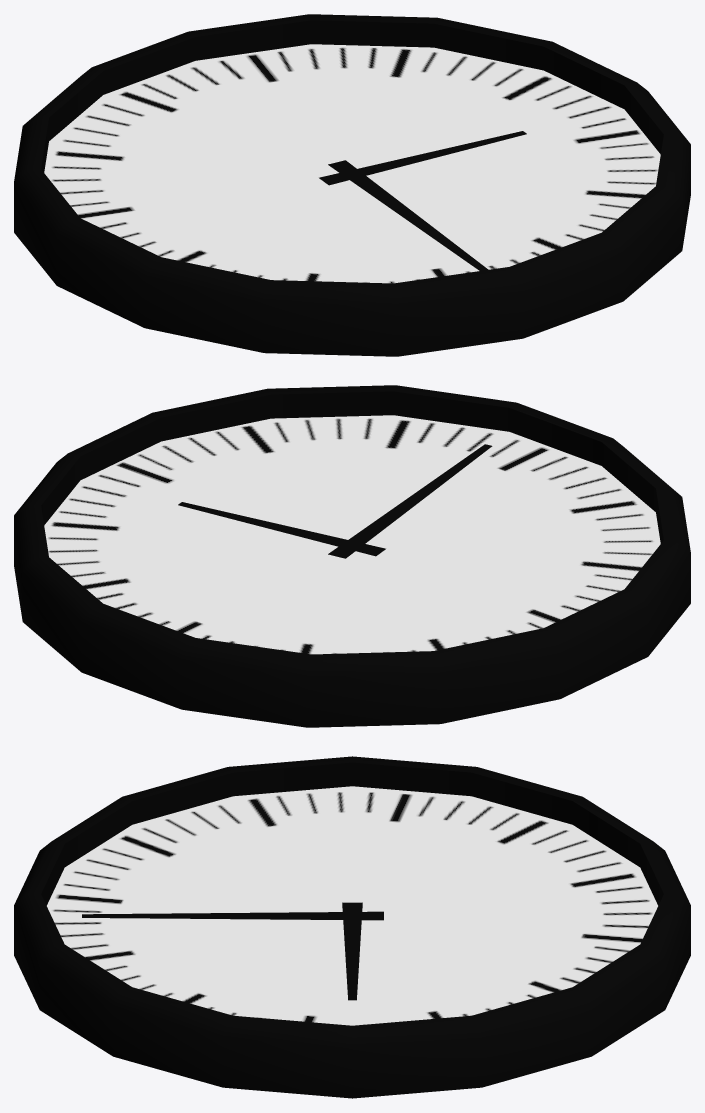
File: Clock.fbx
3 renders of one model, top to bottom at view 1: azimuth 30°, elevation 25°; view 2: azimuth 150°, elevation 25°; view 3: azimuth 270°, elevation 25°, orthographic.
Parts seen in each view (by area): view 1: Clock, MinuteHand, HourHand; view 2: Clock, MinuteHand, HourHand; view 3: Clock, MinuteHand, HourHand.
Part boxes in pixels (x1,y1,x2,y2): Clock: (14, 14, 690, 356); MinuteHand: (328, 160, 488, 270); HourHand: (319, 131, 526, 185); Clock: (14, 385, 690, 727); MinuteHand: (328, 444, 492, 558); HourHand: (178, 502, 385, 556); Clock: (14, 756, 690, 1098); MinuteHand: (82, 911, 383, 920); HourHand: (342, 902, 362, 1000).
Bounding box in the file's own units: 1000 × 100 × 1000.
